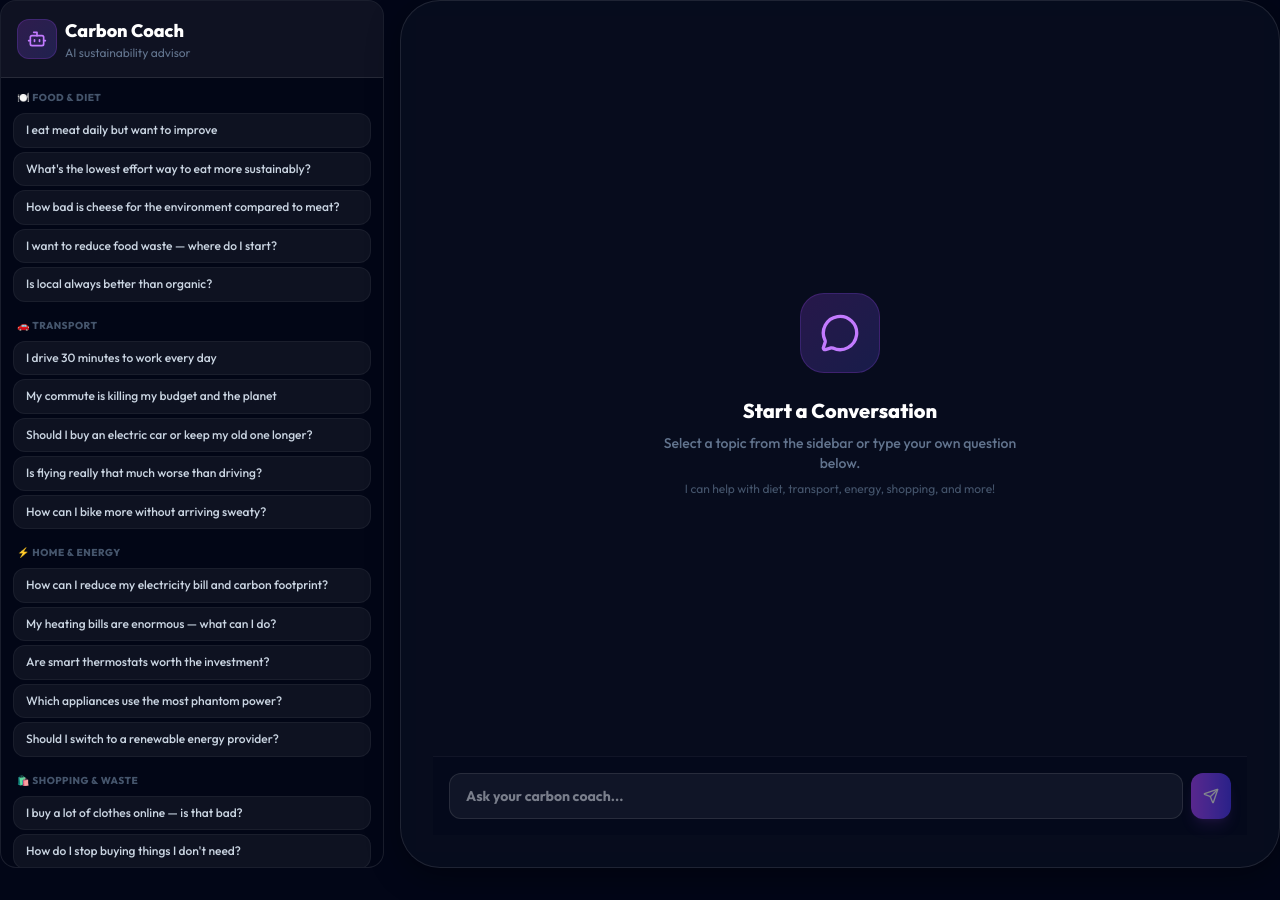
Scenario: CoachTab › sends message and displays response
The width and height of the screenshot is (1280, 900).
Type "How can I reduce my carbon footprint?" into the field with placeholder "Ask your carbon coach...".
click(816, 796); type("How can I reduce my carbon footprint?")  # box left=449, top=773, right=1183, bottom=819
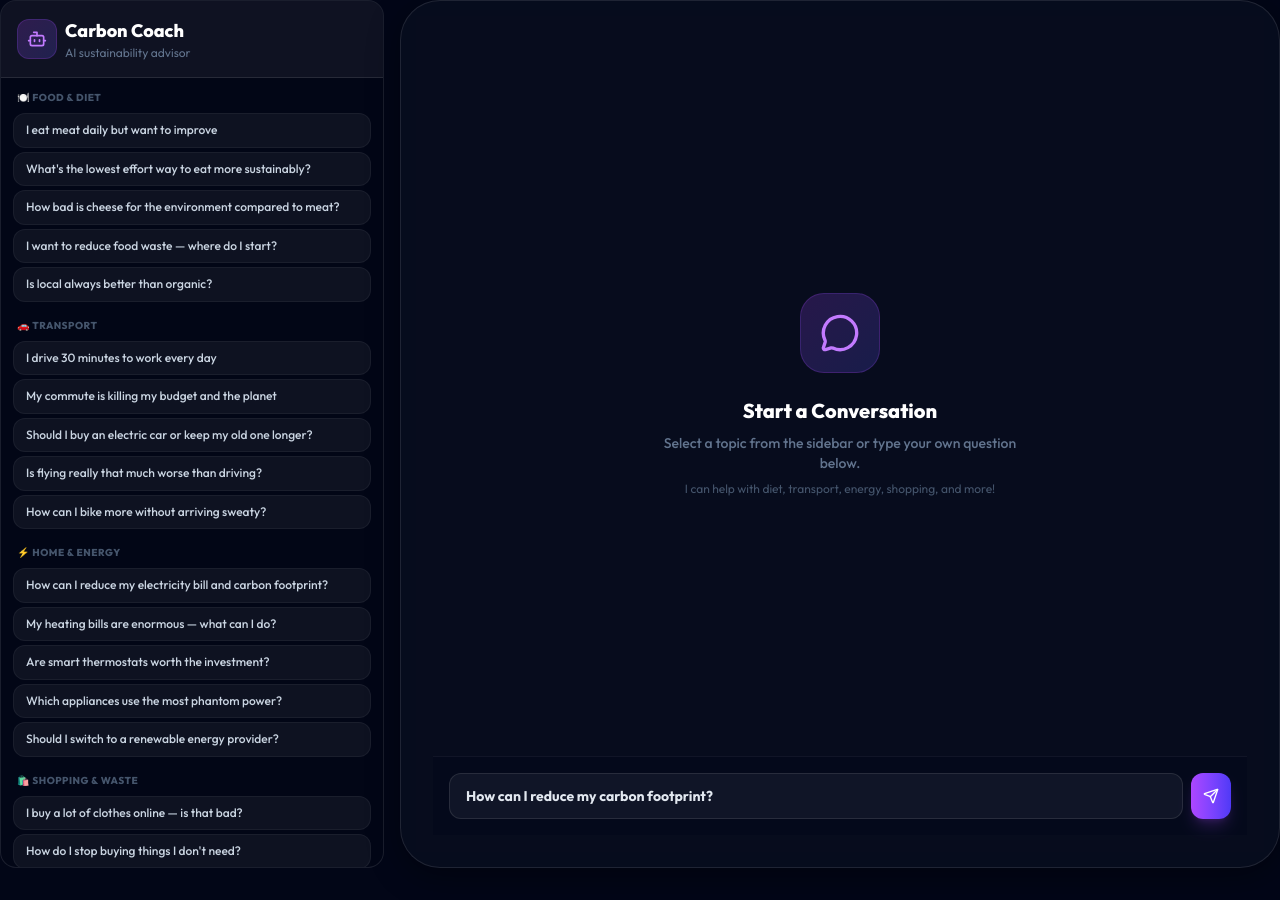
Click the button named "send message".
click(1211, 796)  # box left=1191, top=773, right=1231, bottom=819
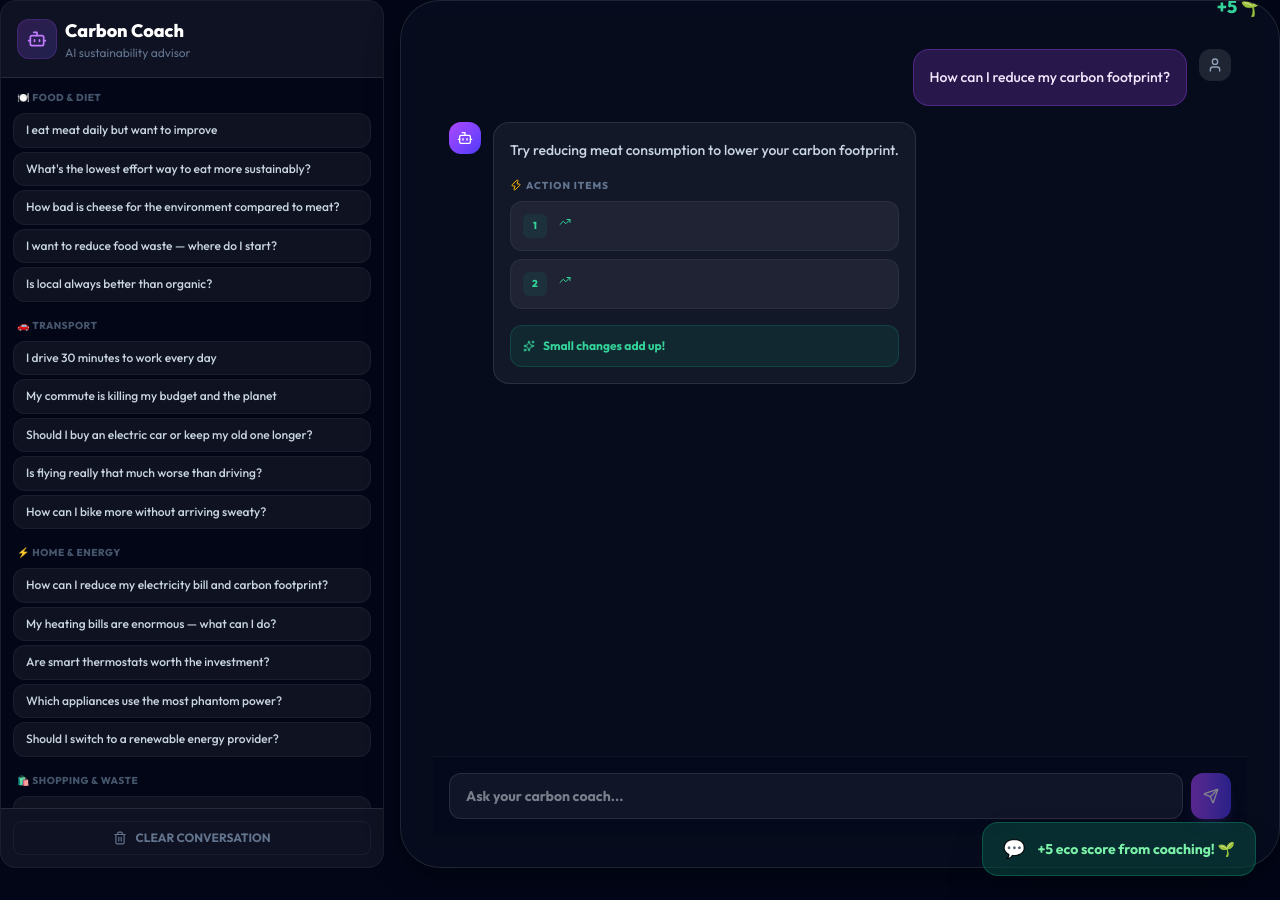
Expected: the text "Try reducing meat consumption" is shown, left=510, top=141, right=899, bottom=159
